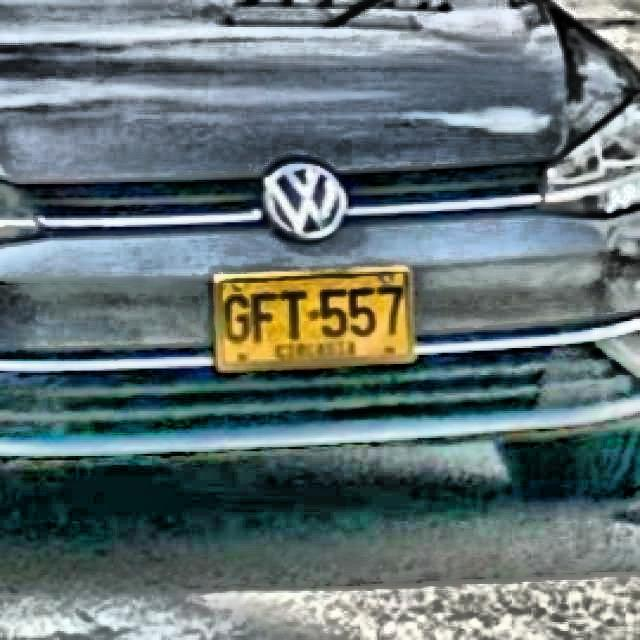plate: (217, 270, 412, 367)
